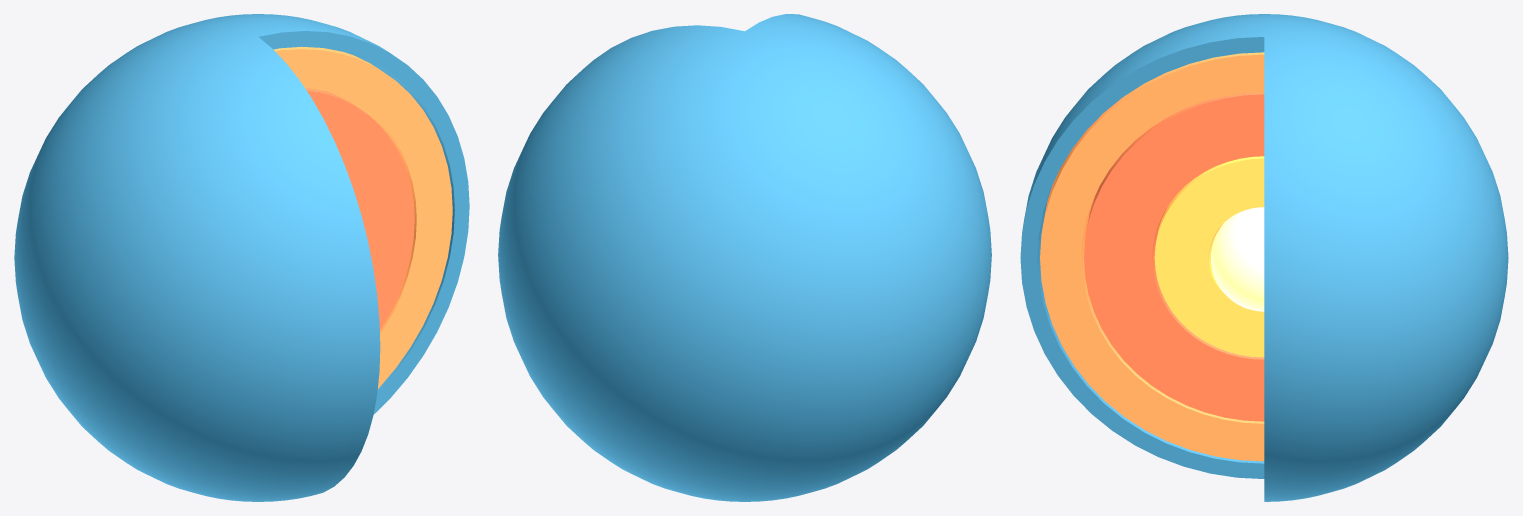
The model's file is struktur-bumi.glb.
3 renders of one model, left to right at view 1: azimuth 30°, elevation 25°; view 2: azimuth 150°, elevation 25°; view 3: azimuth 270°, elevation 25°, orthographic.
Visible parts, largest first — view 1: Lithosphere_Crust, Asthenosphere_Mantle, Mesosphere_Mantle; view 2: Lithosphere_Crust; view 3: Lithosphere_Crust, Mesosphere_Mantle, Asthenosphere_Mantle, Outer_Core, Inner_Core.
Part boxes in pixels (x1=…): Lithosphere_Crust: x1=14, y1=14, x2=469, y2=501; Asthenosphere_Mantle: x1=273, y1=47, x2=452, y2=388; Mesosphere_Mantle: x1=305, y1=88, x2=414, y2=330; Lithosphere_Crust: x1=498, y1=14, x2=991, y2=501; Lithosphere_Crust: x1=1020, y1=14, x2=1508, y2=501; Mesosphere_Mantle: x1=1084, y1=92, x2=1264, y2=421; Asthenosphere_Mantle: x1=1040, y1=52, x2=1264, y2=461; Outer_Core: x1=1154, y1=156, x2=1264, y2=357; Inner_Core: x1=1211, y1=207, x2=1264, y2=311.
Bounding box in the file's own units: 2 × 2 × 2.
